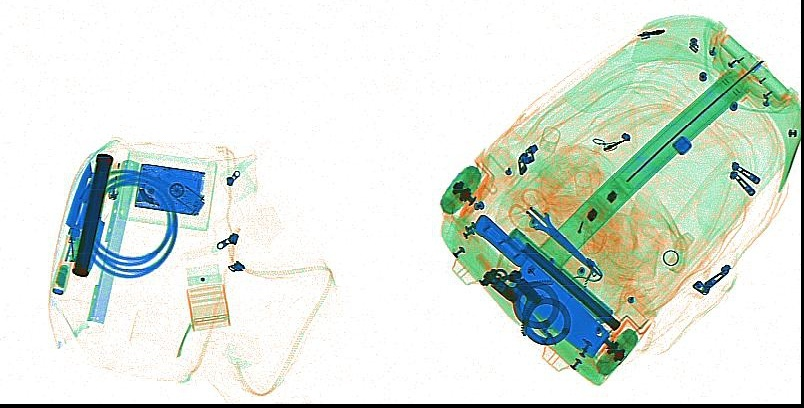handcuffs: (476, 266, 571, 345)
knife: (473, 213, 610, 359), (475, 252, 555, 345), (50, 160, 98, 295), (79, 161, 116, 274)
lighter: (108, 158, 121, 199)
scissors: (508, 189, 605, 276)
